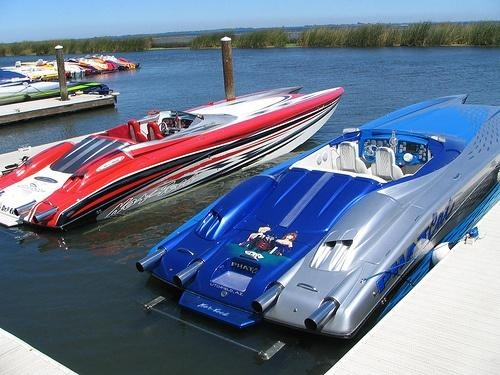boat: (135, 92, 500, 361), (1, 84, 347, 242)
